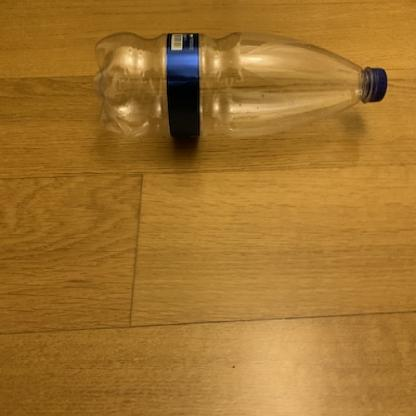trash: (81, 28, 386, 153)
